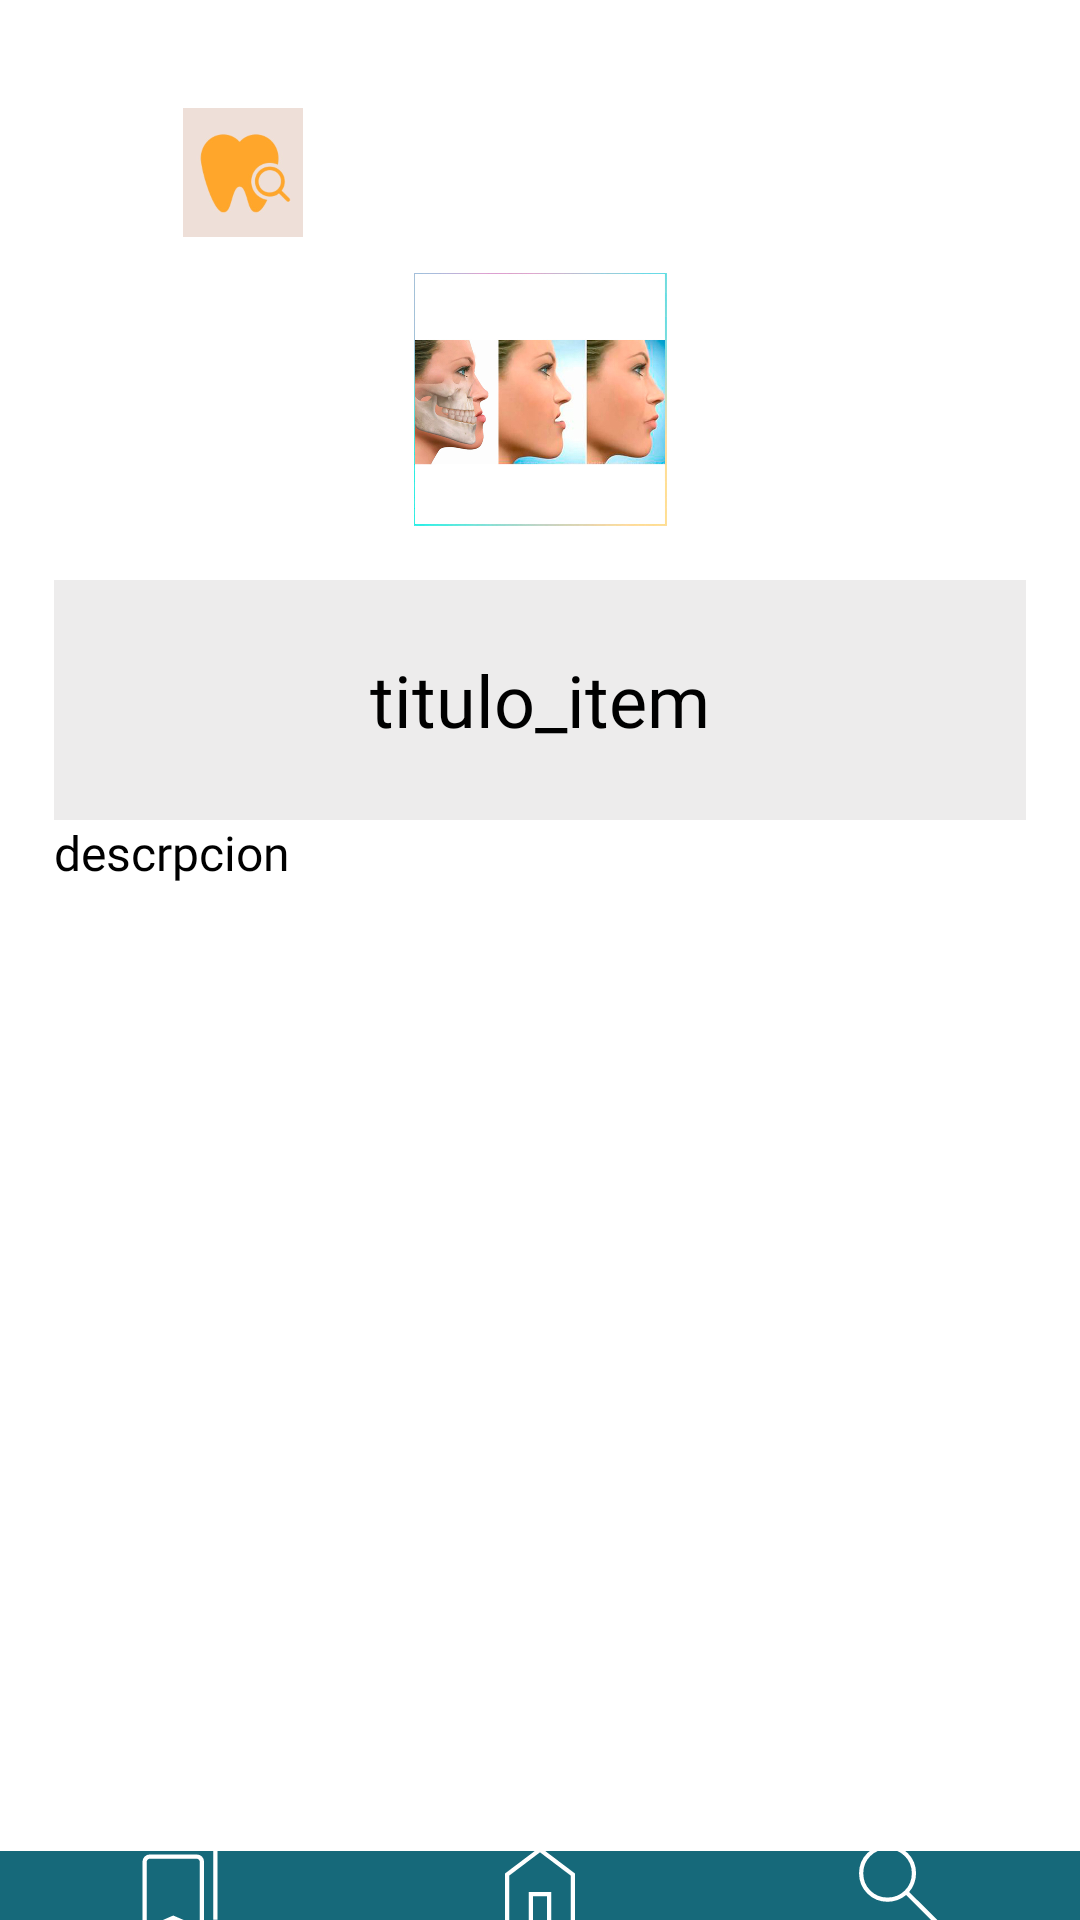

Icons on this 1080px×1920px Android screen, each with its box as [x1, y1, x2, y2]:
home: [505, 1851, 575, 1920]
prognatismo: [414, 273, 667, 526]
